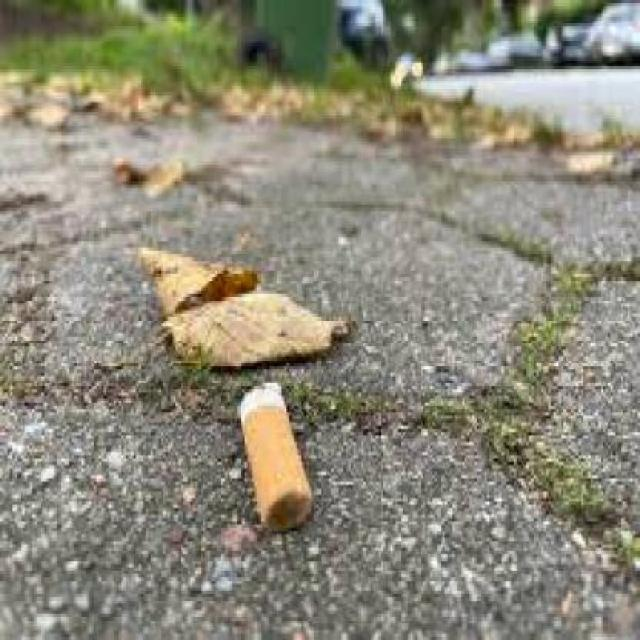cigarette: (230, 383, 338, 522)
